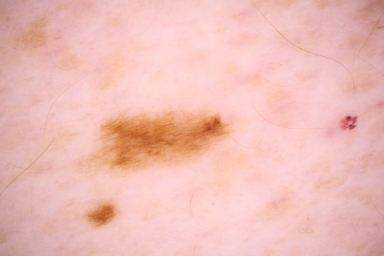nevus: (73, 106, 232, 176), (82, 200, 116, 227)
